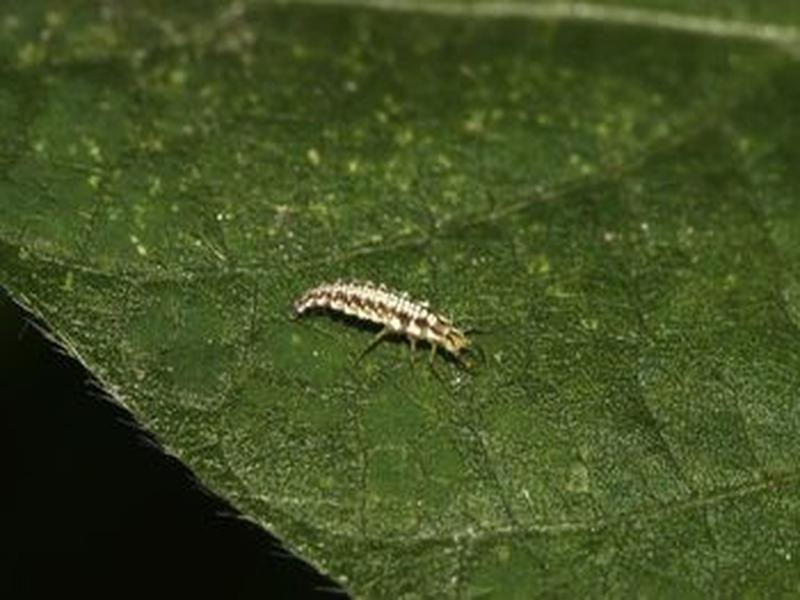Thrips: (277, 267, 492, 401)
